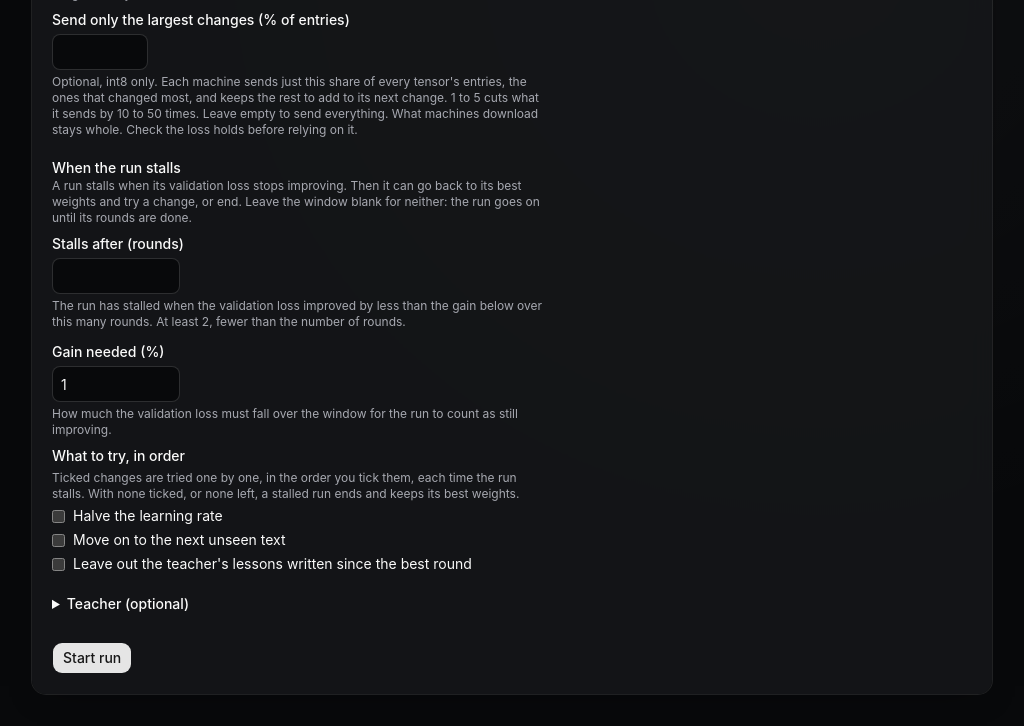
it: Training tab: the start form › says Ollama has no models when it answers with none
(page scrolled)
Click the heading "Teacher (optional)" at (128, 604), box [67,595,189,612]
(page scrolled)
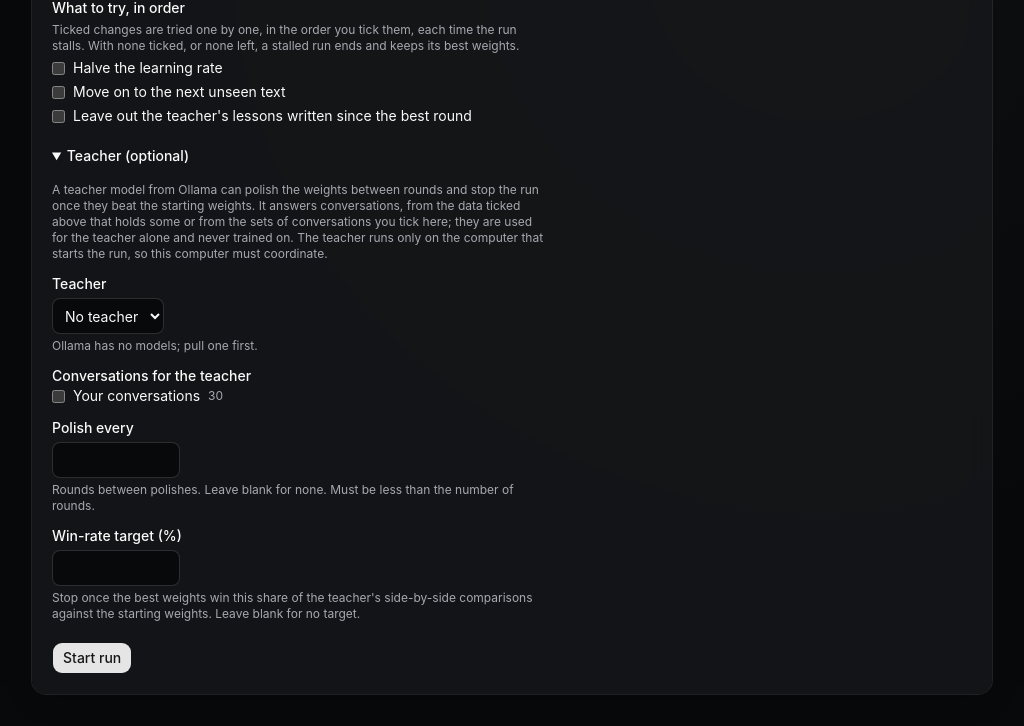
Expected: the text "Ollama has no models; pull one first." is shown, [52,338,258,353]
